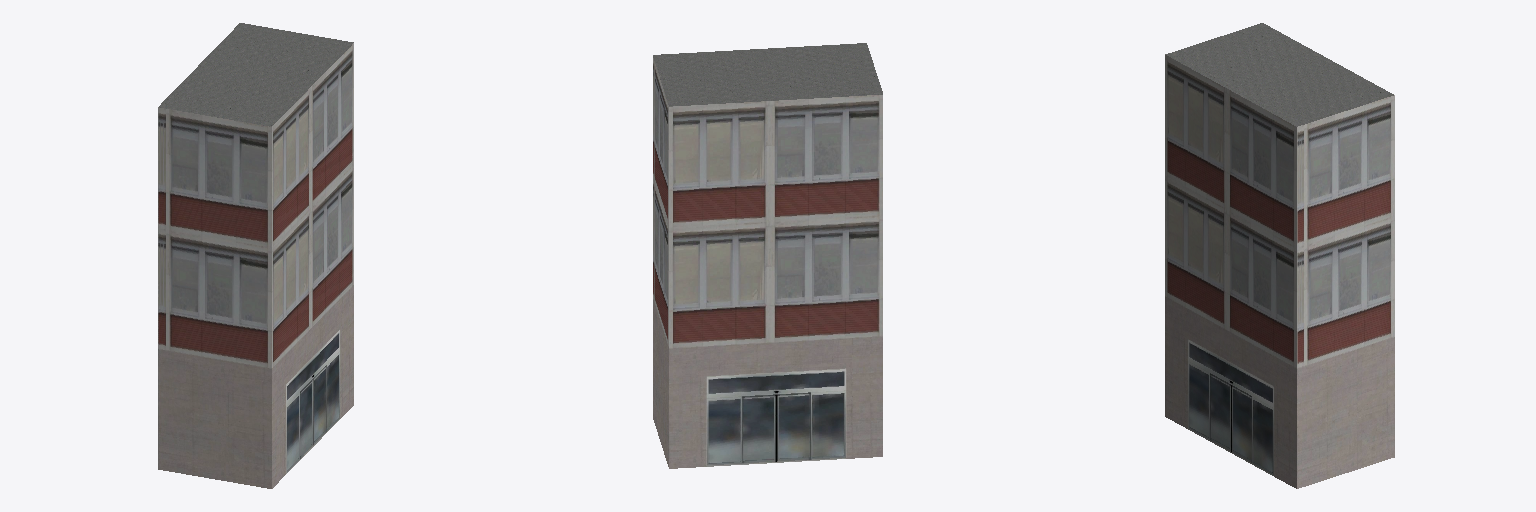
The picture shows the model from 3 angles: view 1: azimuth 30°, elevation 25°; view 2: azimuth 150°, elevation 25°; view 3: azimuth 270°, elevation 25°; orthographic projection.
Parts seen in each view (by area): view 1: BuildingMaster_[number redacted]_0, BuildingMaster_[number redacted]_1; view 2: BuildingMaster_[number redacted]_0, BuildingMaster_[number redacted]_1; view 3: BuildingMaster_[number redacted]_0, BuildingMaster_[number redacted]_1.
Boxes of the visible parts, x1=… form: BuildingMaster_[number redacted]_0: x1=158, y1=43, x2=353, y2=488; BuildingMaster_[number redacted]_1: x1=159, y1=23, x2=353, y2=126; BuildingMaster_[number redacted]_0: x1=653, y1=58, x2=882, y2=468; BuildingMaster_[number redacted]_1: x1=653, y1=43, x2=882, y2=106; BuildingMaster_[number redacted]_0: x1=1165, y1=55, x2=1394, y2=488; BuildingMaster_[number redacted]_1: x1=1165, y1=23, x2=1393, y2=126.
Size of the model in its own units: 6.48 by 10.5 by 6.03.
Materials: 2 (2 with a texture image).